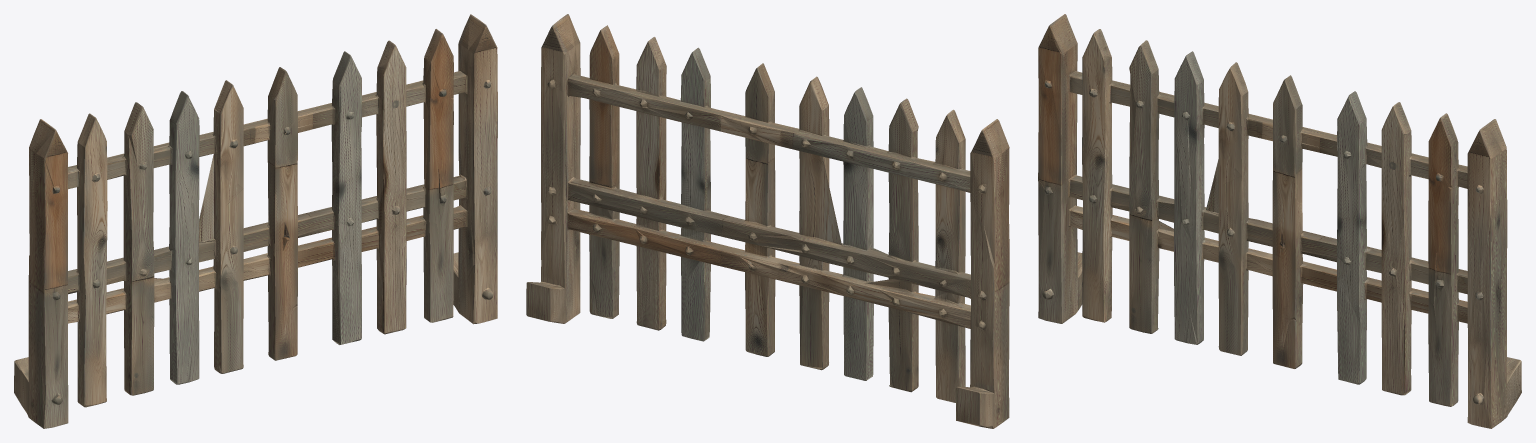
File: picket_fence.glb
The picture shows the model from 3 angles, left to right: view 1: azimuth 30°, elevation 25°; view 2: azimuth 150°, elevation 25°; view 3: azimuth 330°, elevation 25°; orthographic projection.
Bounding box in the file's own units: 1.9 × 1.19 × 0.2518.
1 material, 1 textured.
